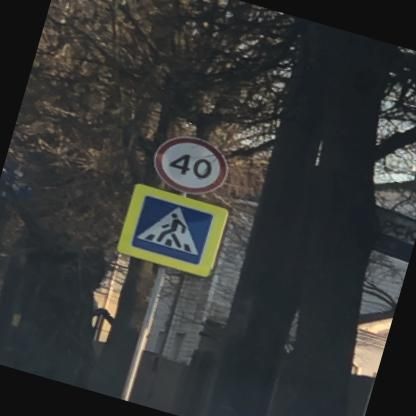crosswalk: (126, 191, 214, 266)
speedlimit: (146, 127, 230, 200)
